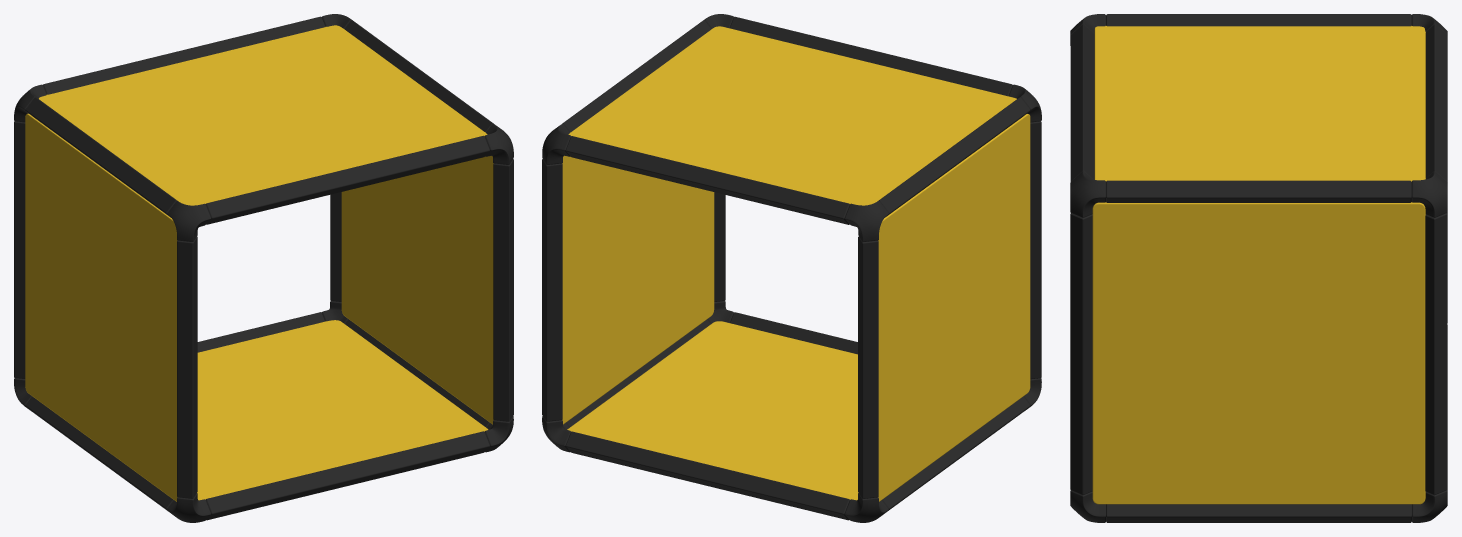
3 renders of one model, left to right at view 1: azimuth 30°, elevation 25°; view 2: azimuth 150°, elevation 25°; view 3: azimuth 270°, elevation 25°, orthographic. The views are drawn at different scales.
Parts seen in each view (by area): view 1: 374x329x329; view 2: 374x329x329; view 3: 374x329x329.
Boxes of the visible parts, x1=… form: 374x329x329: x1=14, y1=14, x2=513, y2=522; 374x329x329: x1=542, y1=14, x2=1041, y2=522; 374x329x329: x1=1070, y1=14, x2=1447, y2=522.
Size of the model in its own units: 0.4517 by 0.4066 by 0.4063.
